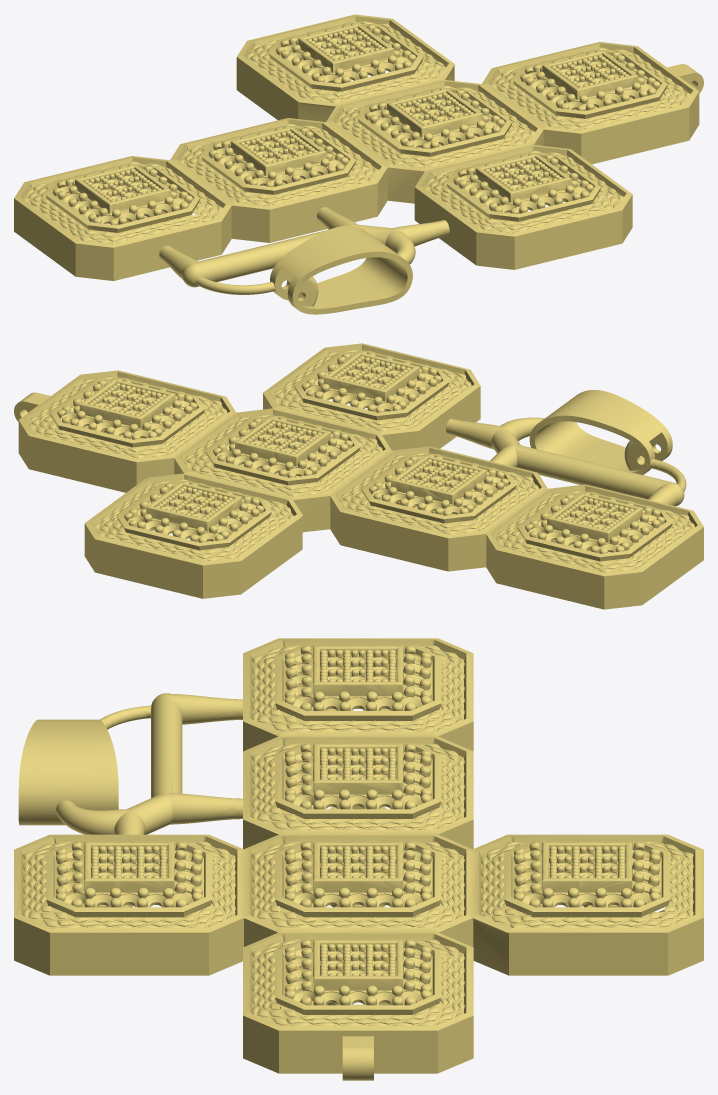
The picture shows the model from 3 angles, top to bottom: view 1: azimuth 30°, elevation 25°; view 2: azimuth 150°, elevation 25°; view 3: azimuth 270°, elevation 25°; orthographic projection. The views are drawn at different scales.
Parts seen in each view (by area): view 1: Renderer Node; view 2: Renderer Node; view 3: Renderer Node.
Part boxes in pixels (bbox=[...]): Renderer Node: bbox=[14, 14, 703, 314]; Renderer Node: bbox=[14, 343, 703, 609]; Renderer Node: bbox=[14, 638, 703, 1080].
Bounding box in the file's own units: 61.56 × 5.14 × 43.69.
